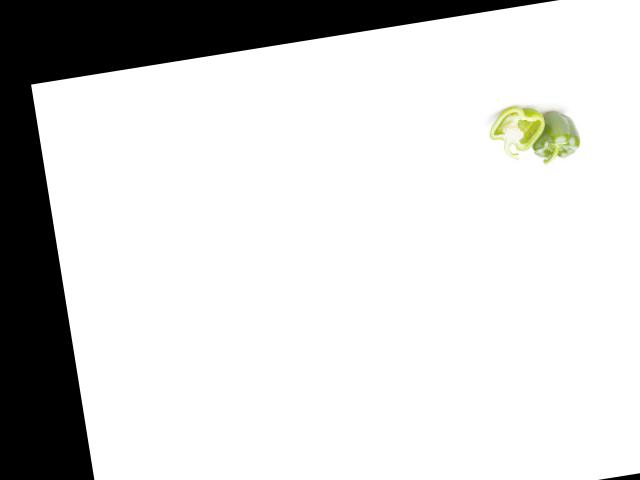bell_pepper: (483, 103, 552, 165)
